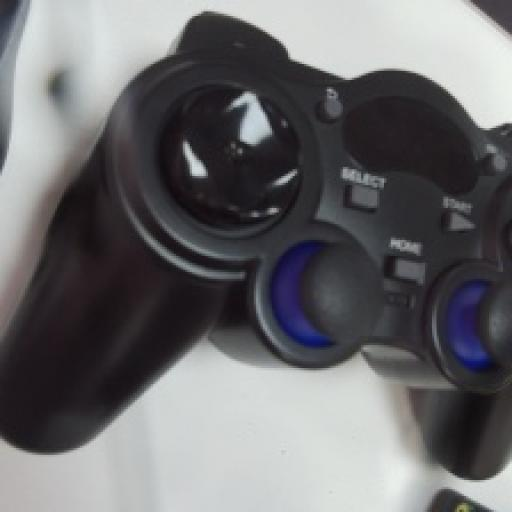game pad: (0, 16, 510, 475)
